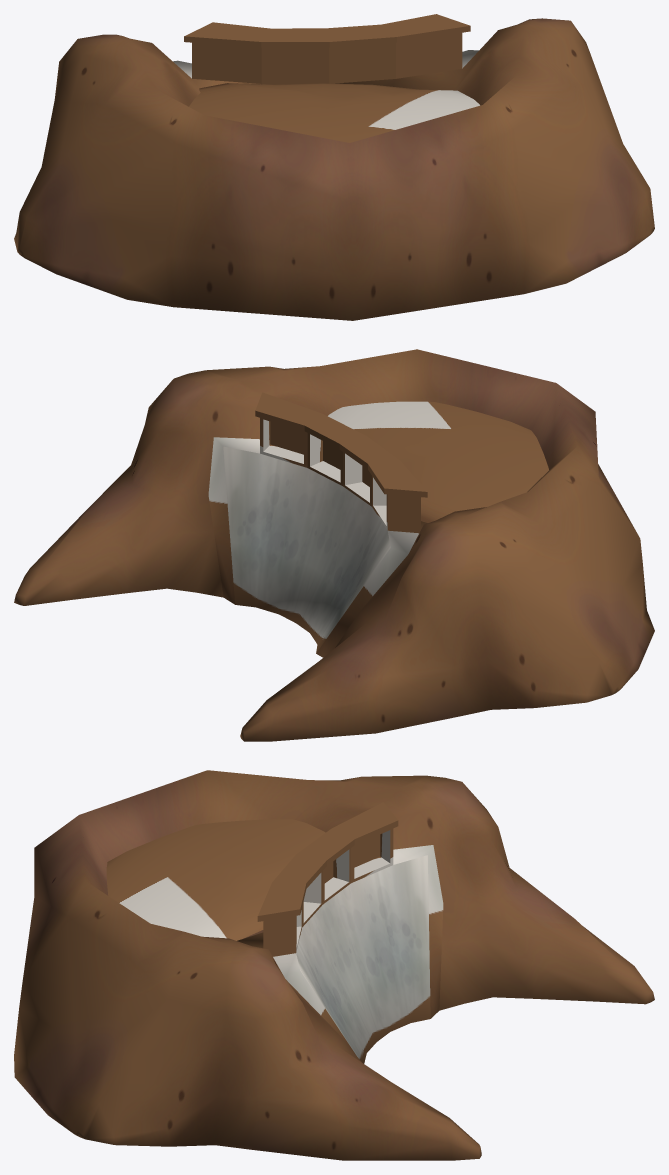
The model's file is dam_8_23_13.FBX.
The picture shows the model from 3 angles, top to bottom: view 1: azimuth 30°, elevation 25°; view 2: azimuth 150°, elevation 25°; view 3: azimuth 270°, elevation 25°; orthographic projection. The views are drawn at different scales.
Visible parts, largest first — view 1: Box001, Sphere002; view 2: Box001, Sphere002; view 3: Box001, Sphere002.
Boxes of the visible parts, left/top/right/bottom form: Box001: left=14, top=14, right=654, bottom=320; Sphere002: left=189, top=83, right=479, bottom=142; Box001: left=14, top=349, right=654, bottom=741; Sphere002: left=328, top=401, right=548, bottom=522; Box001: left=14, top=770, right=654, bottom=1160; Sphere002: left=106, top=819, right=325, bottom=940.
Bounding box in the file's own units: 109 × 31.85 × 107.
